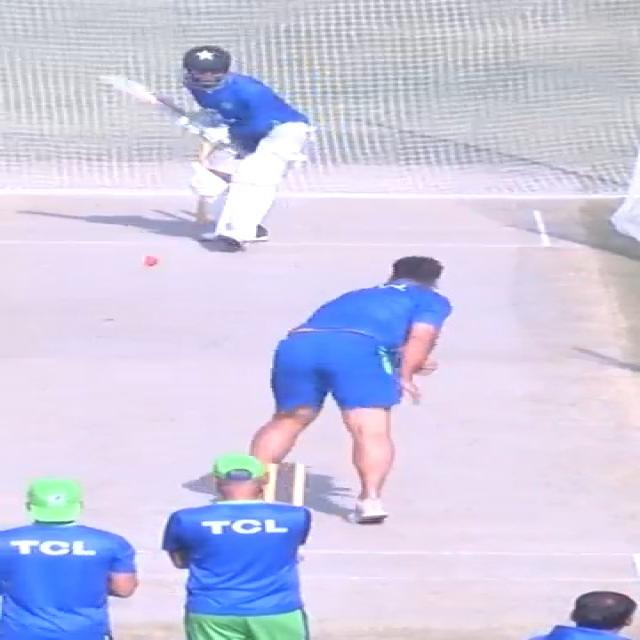Cricket ball: (139, 255, 162, 268)
